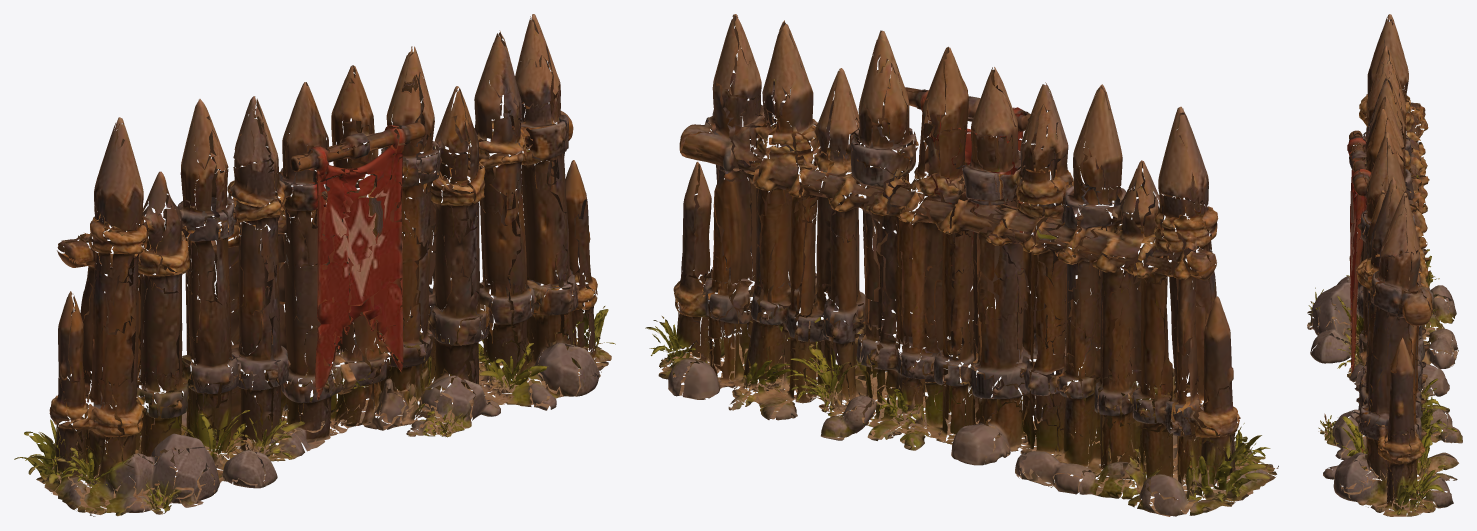
Rendered from goblin_fence_3d.glb.
3 views of the same model, side by side, from view 1: azimuth 30°, elevation 25°; view 2: azimuth 150°, elevation 25°; view 3: azimuth 270°, elevation 25° (orthographic). The views are drawn at different scales.
Bounding box in the file's own units: 1.89 × 1.11 × 0.5139.
Materials: 1 (1 with a texture image).
